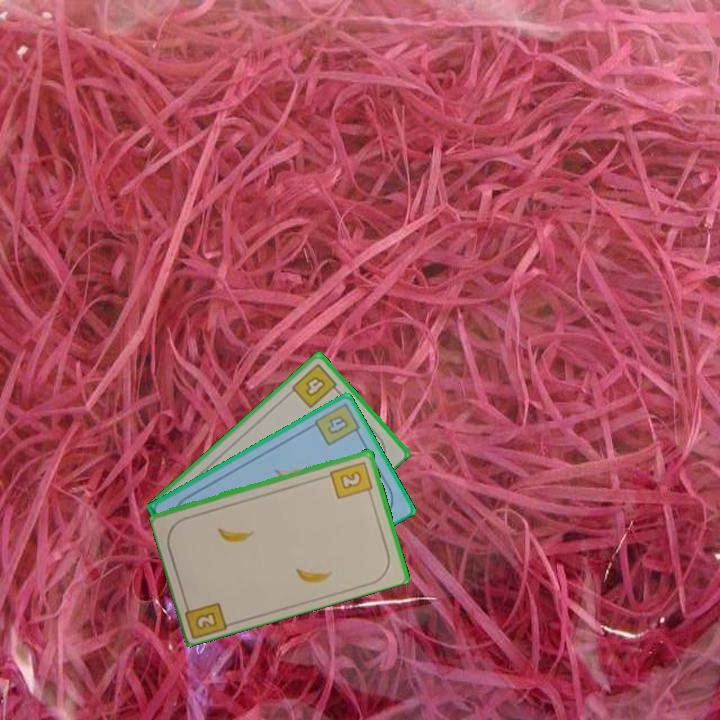2b: (181, 596, 232, 639), (327, 458, 376, 502)
4b: (288, 360, 343, 411), (310, 402, 364, 449)
